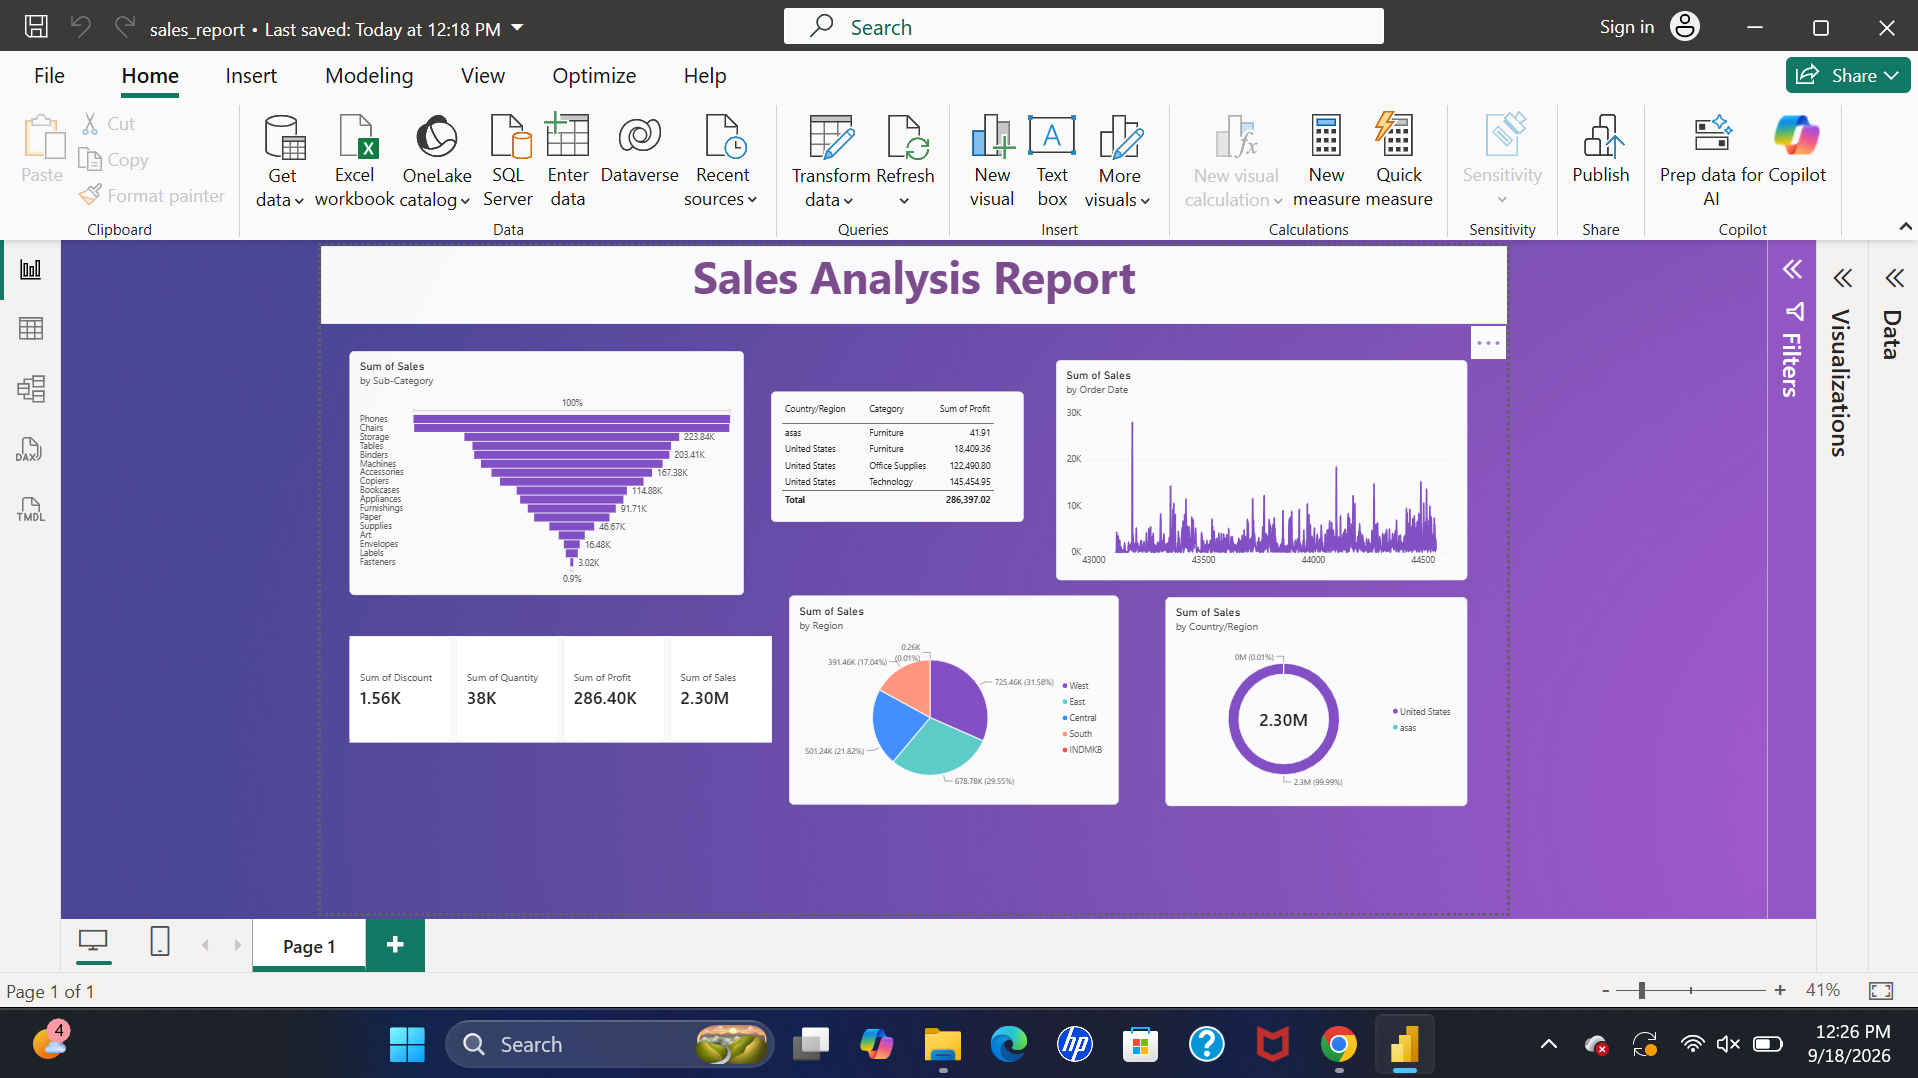

The dashboard page shown, as its layout file describes it:
{"tool":"powerbi","page":{"name":"Page 1","canvas":[1920,1080],"ordinal":0},"visuals":[{"type":"donutChart","fields":{"Category":["Orders.Country/Region"],"Y":["Sum(Orders.Sales)"]},"box":[1368.2,568.2,488.6,338.6],"z":0},{"type":"funnel","fields":{"Category":["Orders.Sub-Category"],"Y":["Sum(Orders.Sales)"]},"box":[45.5,170.5,638.6,395.5],"z":1000},{"type":"pieChart","fields":{"Category":["Orders.Region"],"Y":["Sum(Orders.Sales)"]},"box":[756.8,565.9,534.1,338.6],"z":2000},{"type":"tableEx","fields":{"Values":["Orders.Country/Region","Orders.Category","Sum(Orders.Profit)"]},"box":[729.5,236.4,409.1,211.4],"z":3000},{"type":"lineChart","fields":{"Category":["Orders.Order Date"],"Y":["Sum(Orders.Sales)"]},"box":[1190.9,184.1,665.9,356.8],"z":4000},{"type":"cardVisual","fields":{"Data":["Sum(Orders.Discount)","Sum(Orders.Quantity)","Sum(Orders.Profit)","Sum(Orders.Sales)"]},"box":[45.5,631.8,684.1,172.7],"z":5000},{"type":"textbox","box":[0,0,1921.2,126.3],"z":7000}]}

Visuals, with their boxes on the page's 1920x1080 design canvas (x1, y1, x2, y2). These are canvas units, not pixel positions in the 1918x1078 screenshot, which may show the page scaled, cropped or inside an application window:
donutChart - Orders.Country/Region x Sum(Orders.Sales): BBox(1368, 568, 1857, 907)
funnel - Orders.Sub-Category x Sum(Orders.Sales): BBox(46, 170, 684, 566)
pieChart - Orders.Region x Sum(Orders.Sales): BBox(757, 566, 1291, 904)
tableEx - Orders.Country/Region x Orders.Category: BBox(730, 236, 1139, 448)
lineChart - Orders.Order Date x Sum(Orders.Sales): BBox(1191, 184, 1857, 541)
cardVisual - Sum(Orders.Discount) x Sum(Orders.Quantity): BBox(46, 632, 730, 804)
textbox: BBox(0, 0, 1921, 126)
